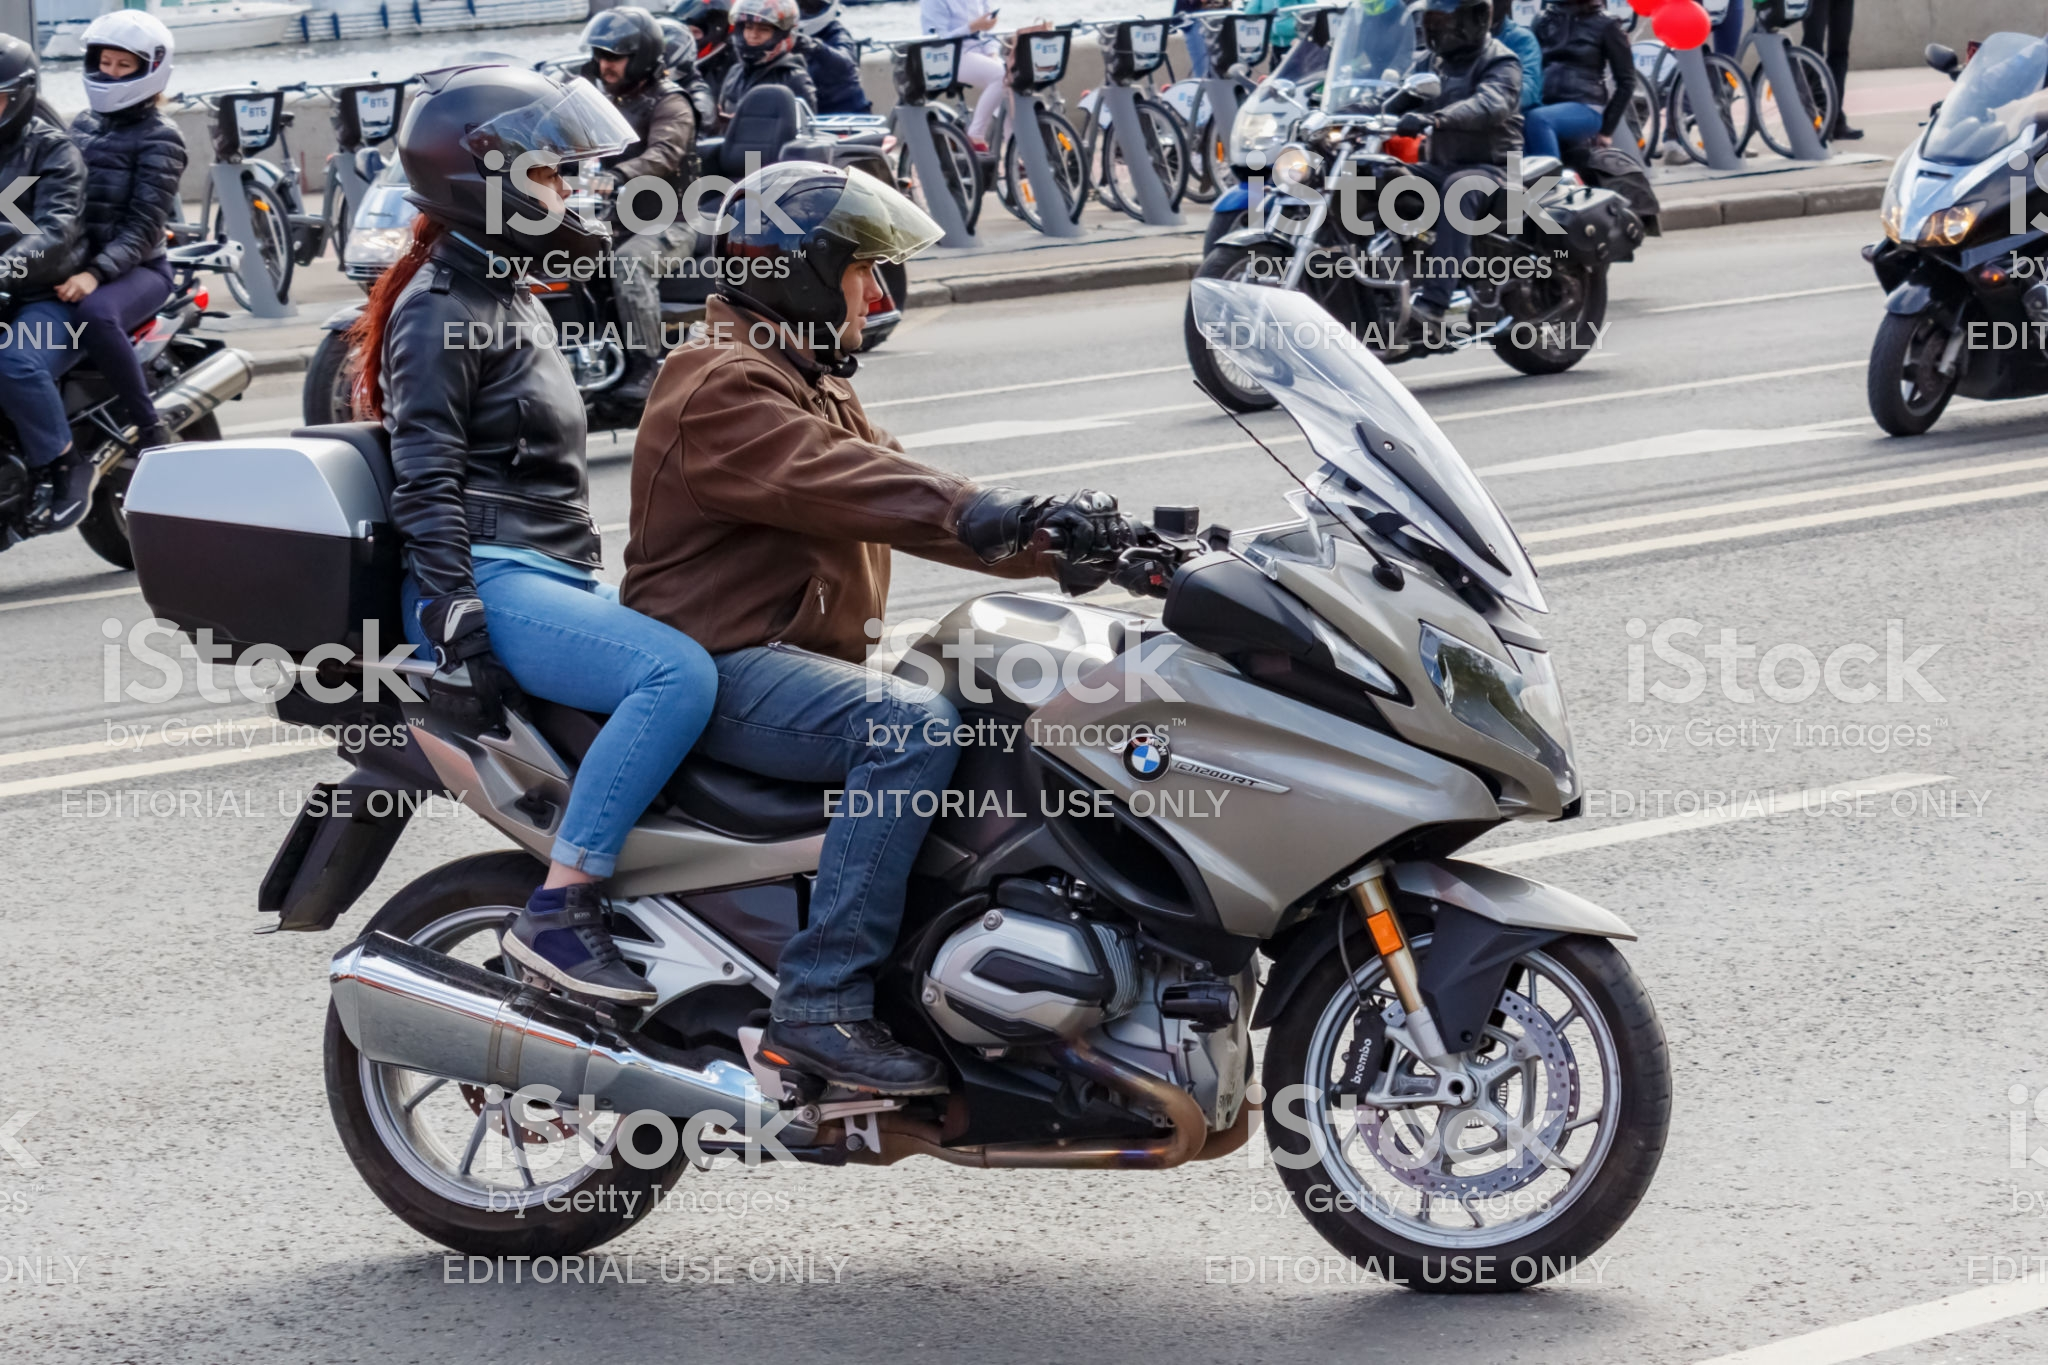helmet: (384, 67, 620, 250), (719, 154, 924, 358)
